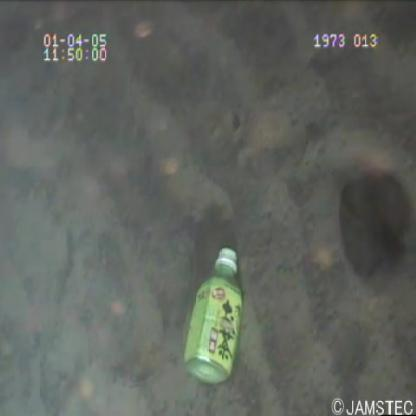Rác: (178, 237, 253, 386)
